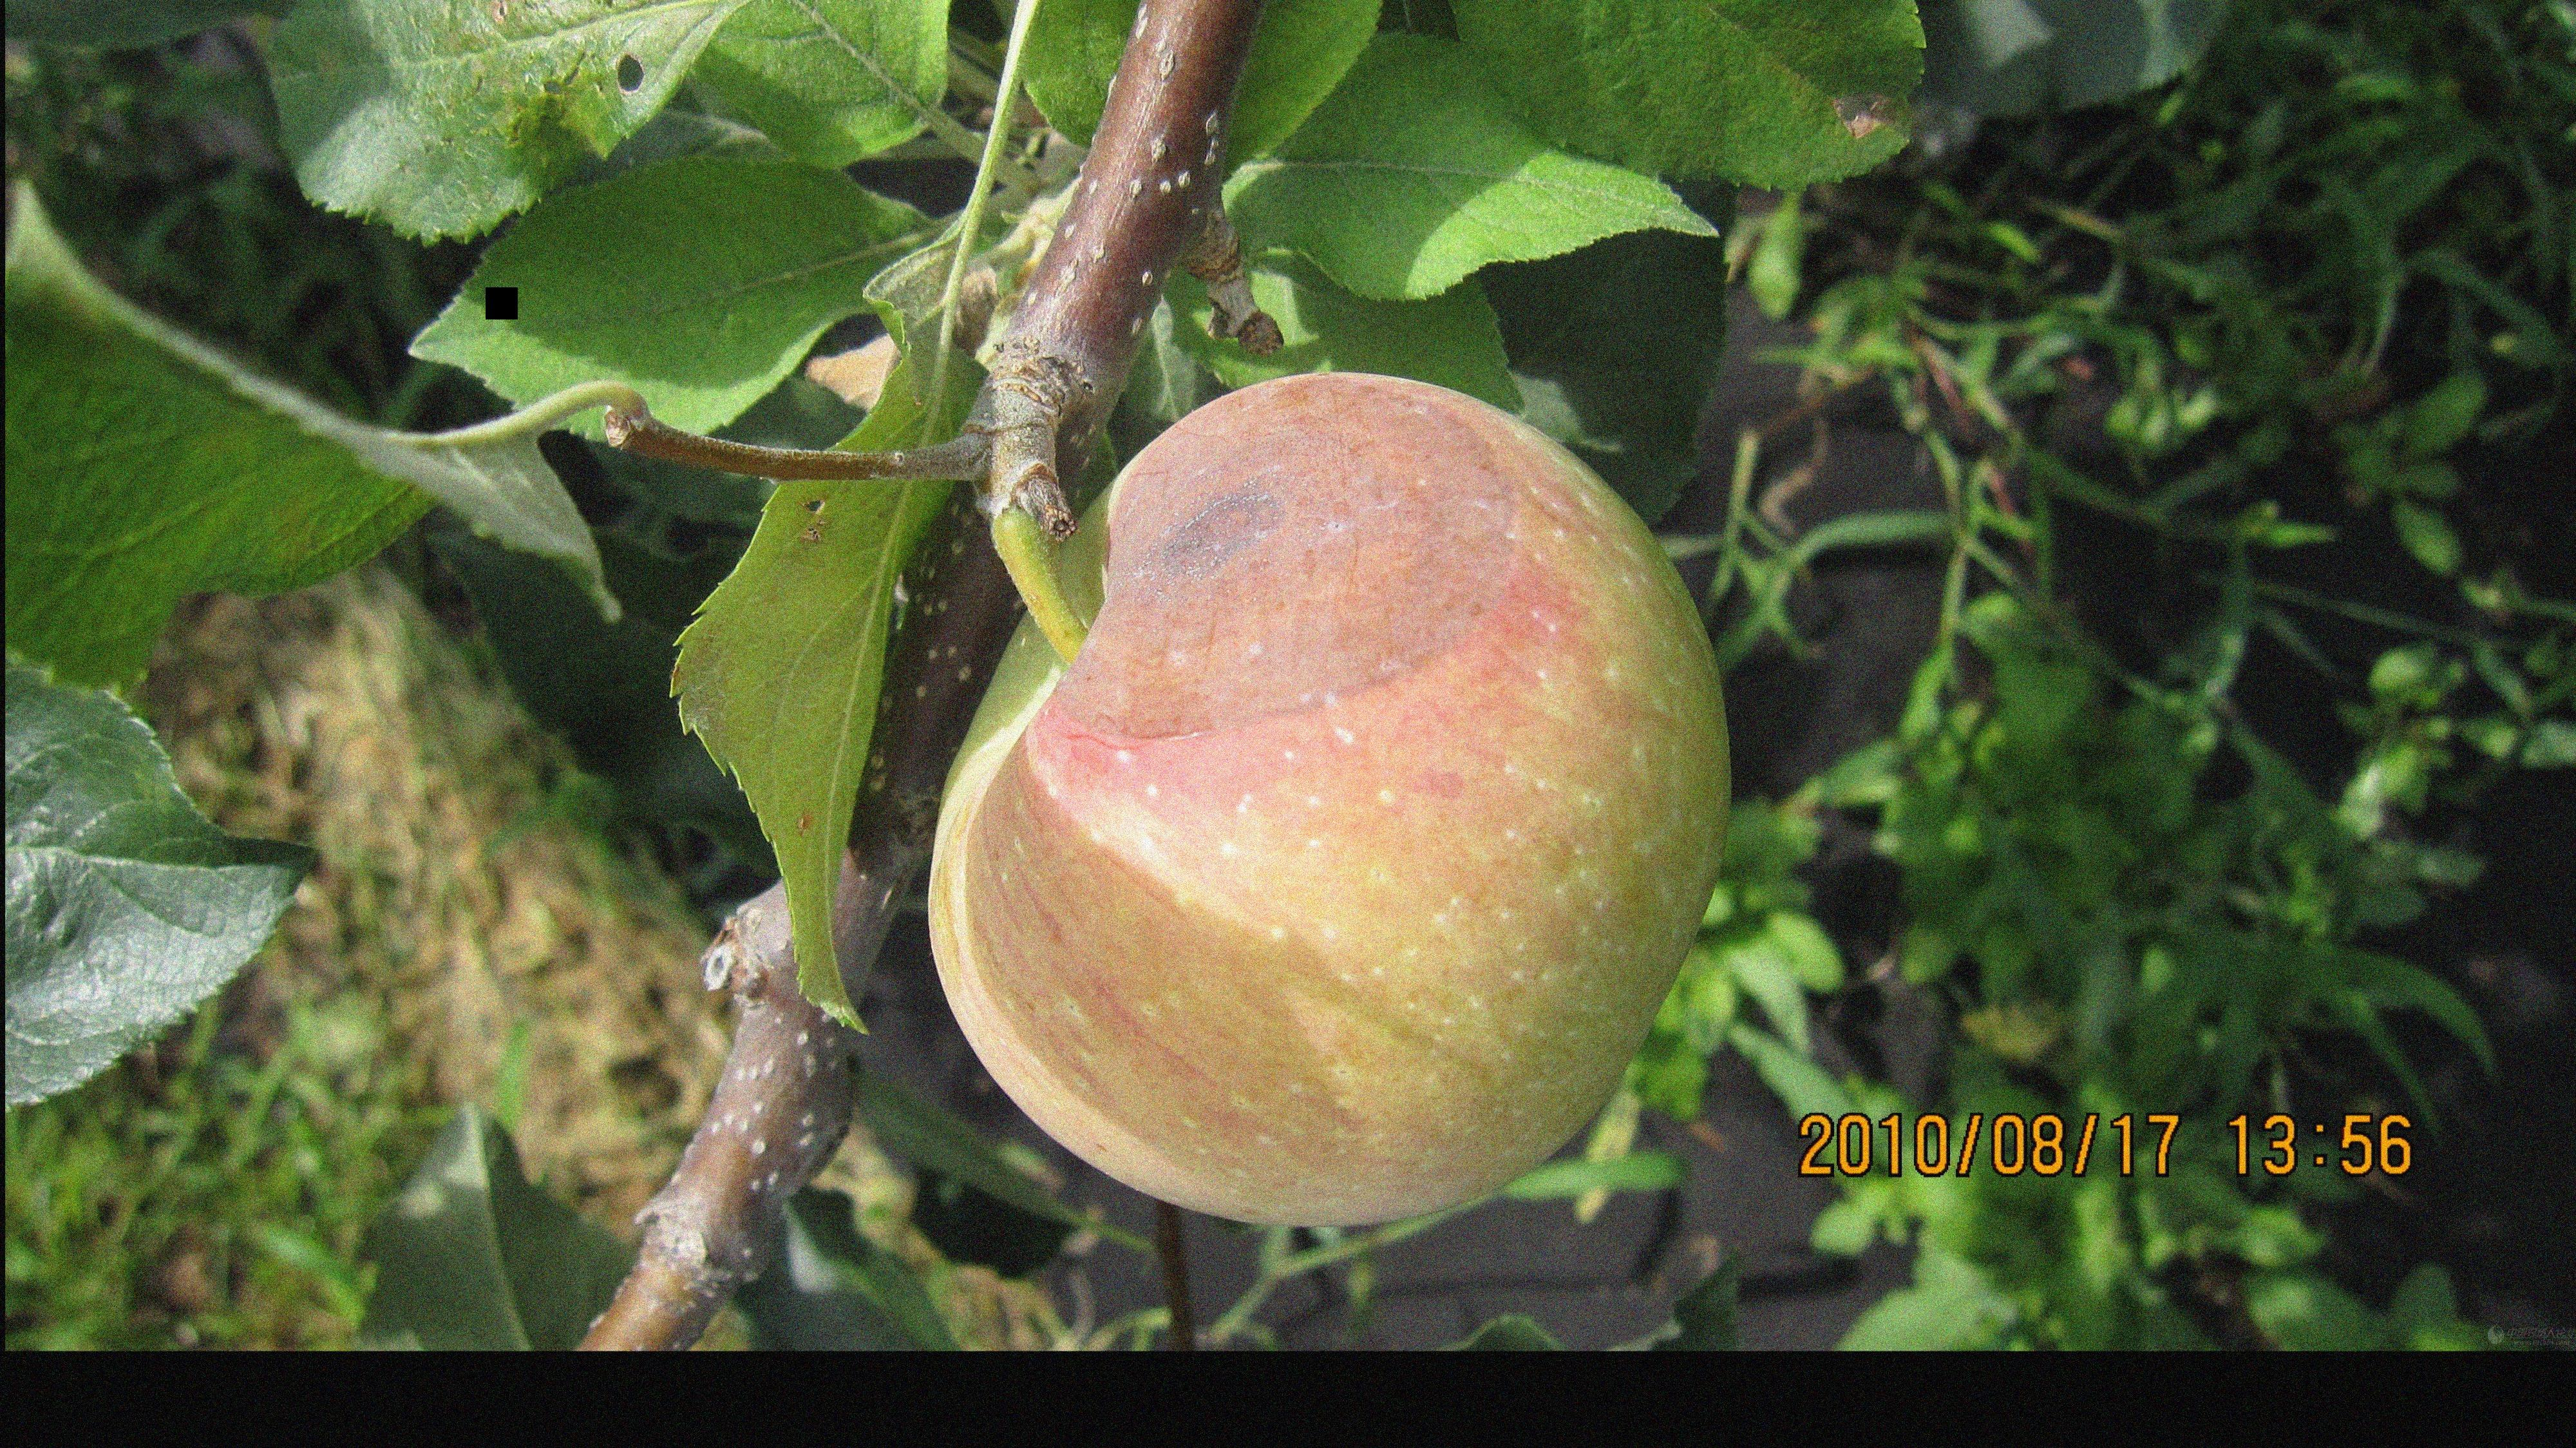rotten apple: (916, 388, 1750, 1236)
